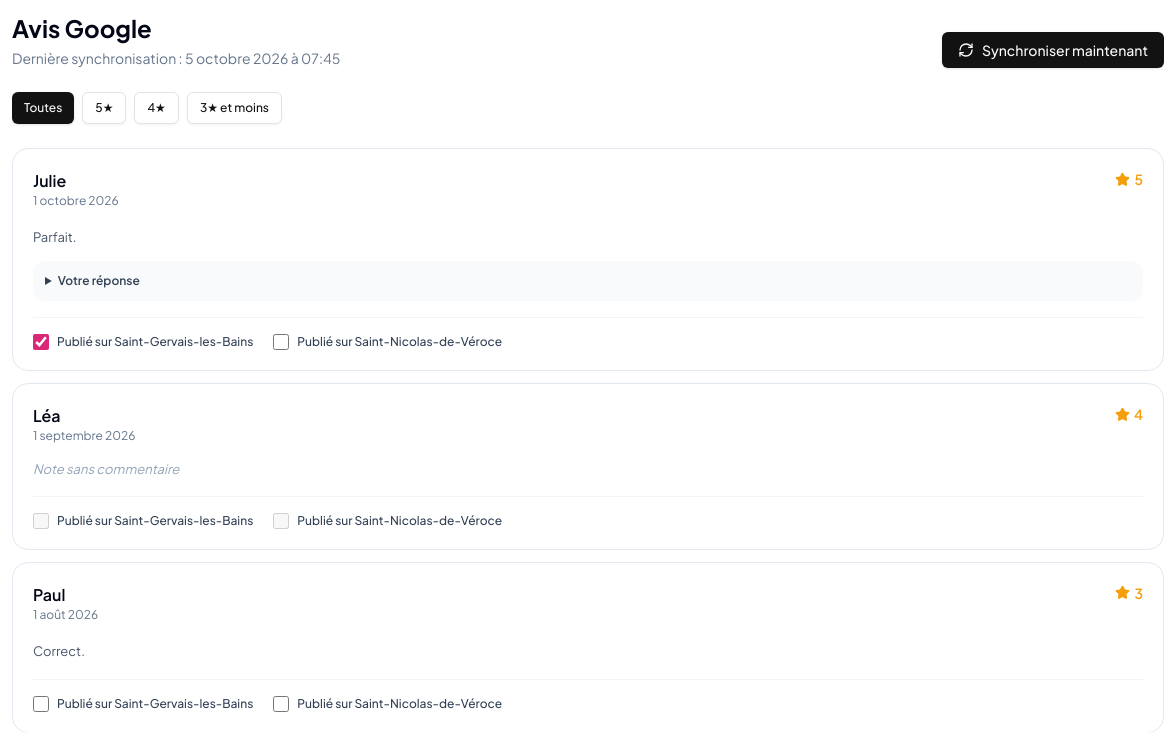
it: 062 AC-02-01 — liste admin › restores the previous state and shows the error when publication fails
The image size is (1176, 732).
Click the checkbox labelled "Publié sur Saint-Nicolas-de-Véroce" below "Votre réponse" at (281, 342), box [273,334,289,350]
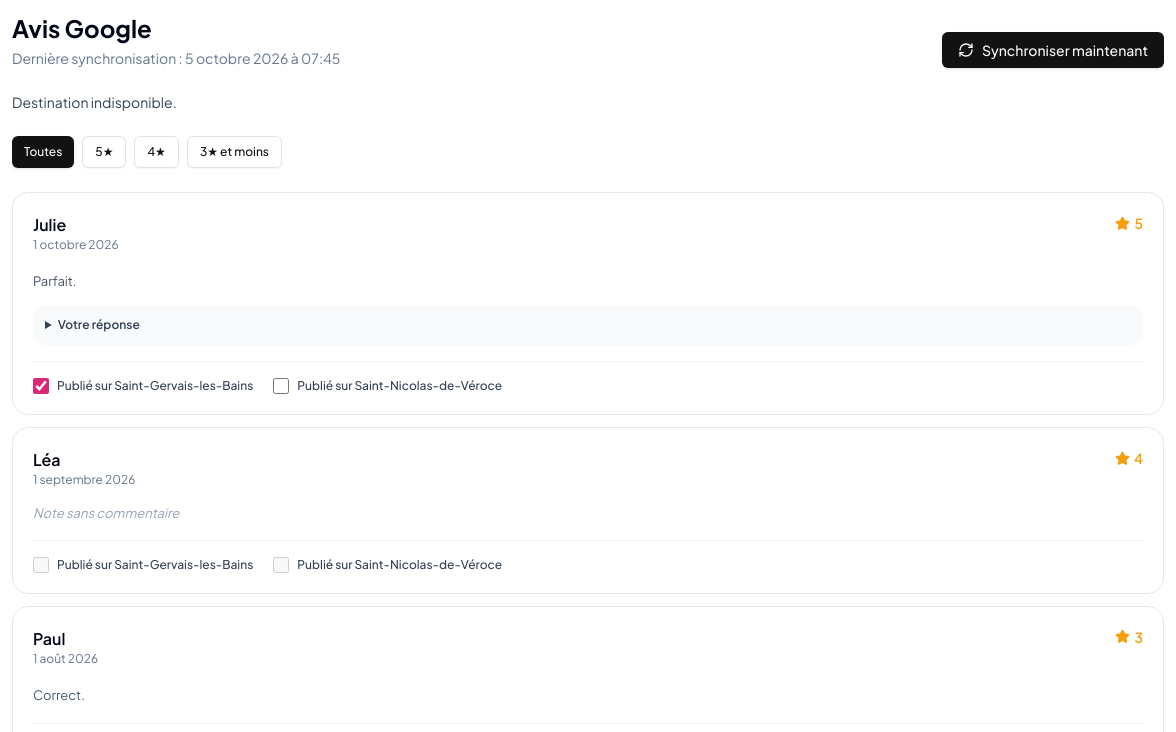
Check: the checkbox labelled "Publié sur Saint-Nicolas-de-Véroce" below "Votre réponse" is not checked, box [273,378,289,394]
Check: the message reads "Destination indisponible.", box [12,93,177,111]
